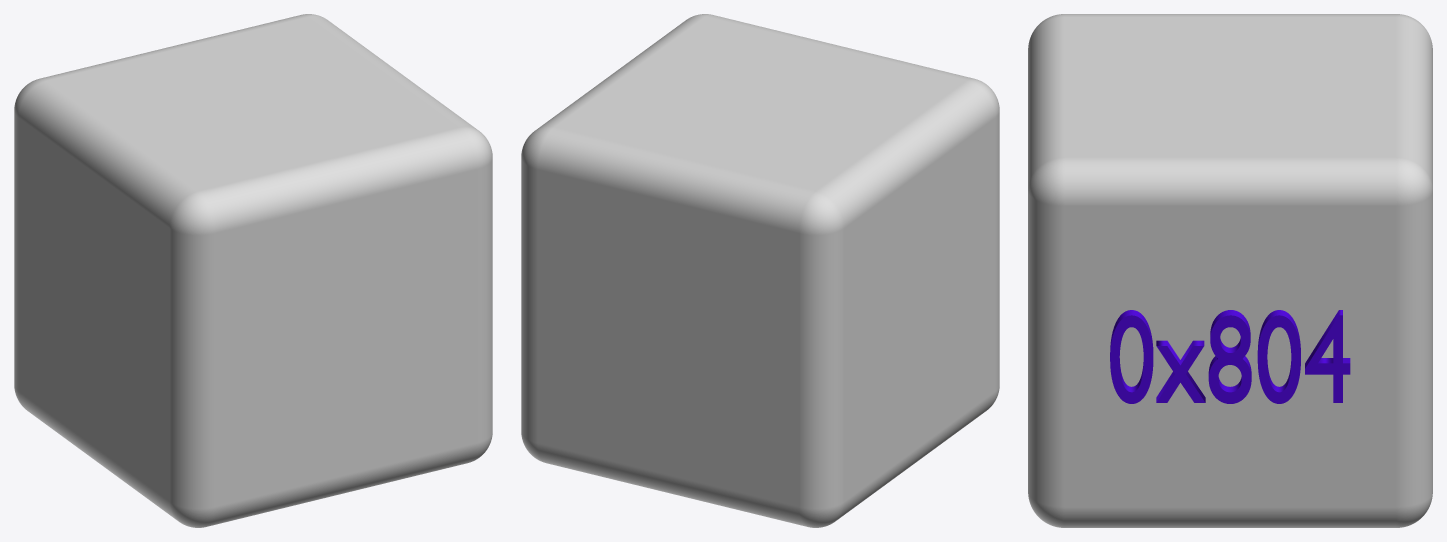
The model's file is Instr43.fbx.
3 renders of one model, left to right at view 1: azimuth 30°, elevation 25°; view 2: azimuth 150°, elevation 25°; view 3: azimuth 270°, elevation 25°, orthographic. The views are drawn at different scales.
Visible parts, largest first — view 1: Cube; view 2: Cube; view 3: Cube, Text.
Part boxes in pixels (x1=…): Cube: x1=14, y1=14, x2=492, y2=527; Cube: x1=521, y1=14, x2=999, y2=527; Cube: x1=1028, y1=14, x2=1432, y2=527; Text: x1=1110, y1=310, x2=1350, y2=403.
Bounding box in the file's own units: 69.29 × 67.15 × 67.15.
